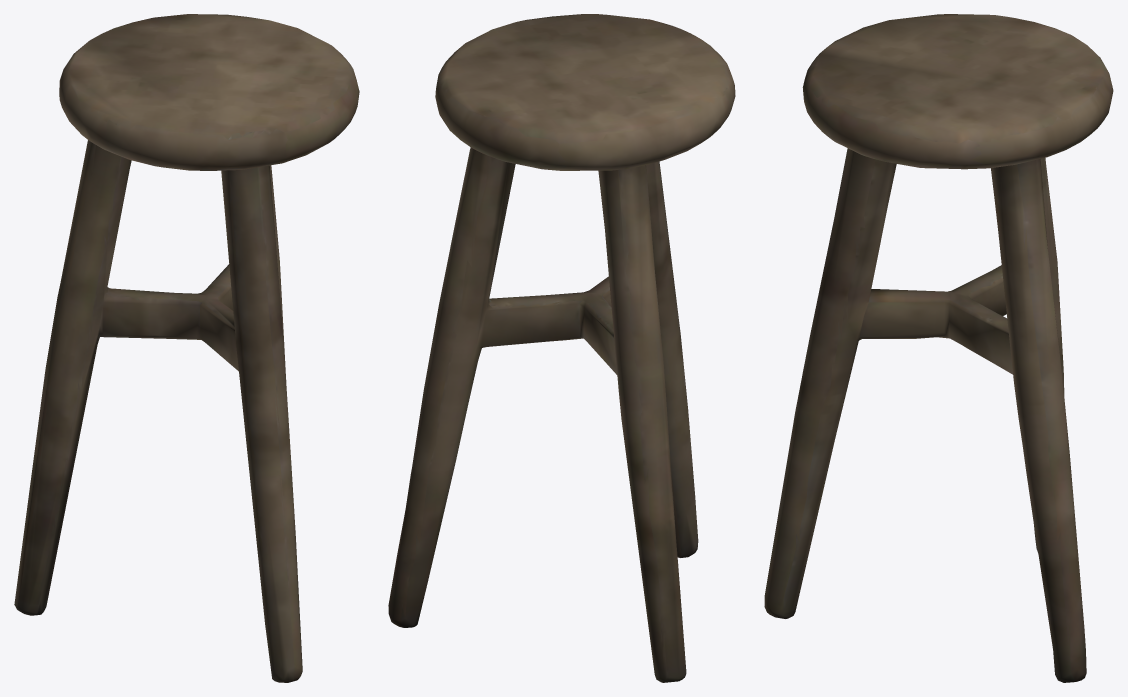
The model's file is plain-wood-stool-v001.glb.
3 views of the same model, side by side, from view 1: azimuth 30°, elevation 25°; view 2: azimuth 150°, elevation 25°; view 3: azimuth 270°, elevation 25° (orthographic).
Visible parts, largest first — view 1: plain-wood-stool; view 2: plain-wood-stool; view 3: plain-wood-stool.
Part boxes in pixels (<box>): plain-wood-stool: <box>14,14,359,682</box>; plain-wood-stool: <box>388,14,735,682</box>; plain-wood-stool: <box>764,14,1113,682</box>.
Bounding box in the file's own units: 0.2408 × 0.4379 × 0.2521.
1 material, 1 textured.
